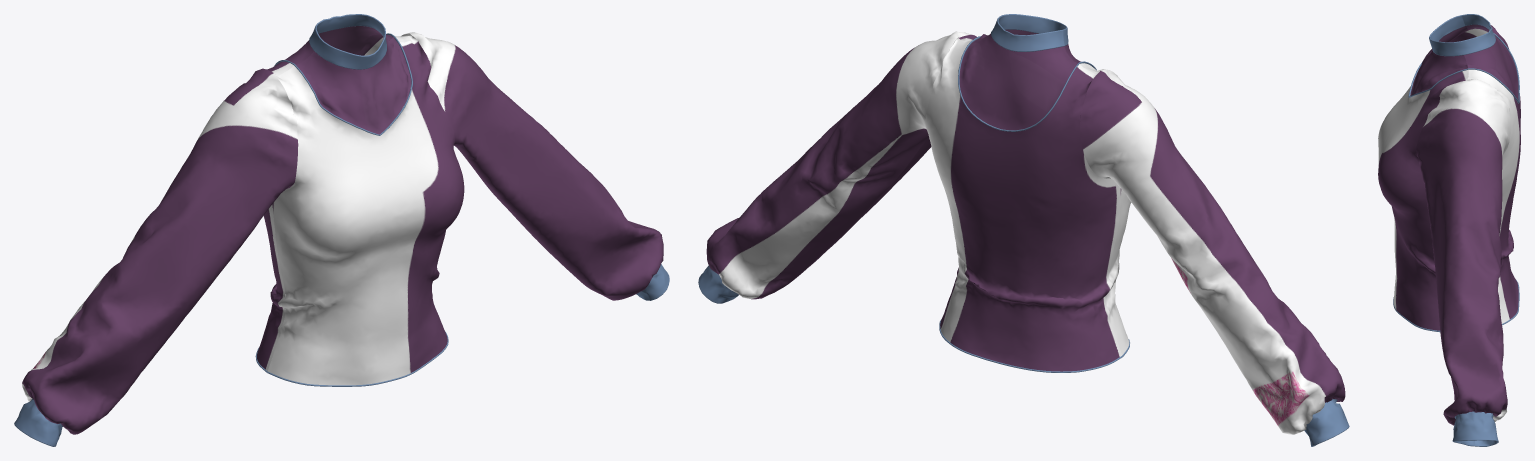
Rendered from 3Angle.fbx.
The picture shows the model from 3 angles, left to right: view 1: azimuth 30°, elevation 25°; view 2: azimuth 150°, elevation 25°; view 3: azimuth 270°, elevation 25°; orthographic projection. The views are drawn at different scales.
Parts seen in each view (by area): view 1: 3Angle; view 2: 3Angle; view 3: 3Angle.
Part boxes in pixels (x1,y1,x2,y2): 3Angle: (14, 14, 669, 446); 3Angle: (698, 14, 1349, 446); 3Angle: (1378, 14, 1520, 446).
Size of the model in its own units: 107 by 54.97 by 23.92.
